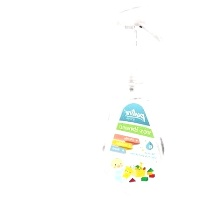cleaning_solution: (95, 1, 177, 224)
